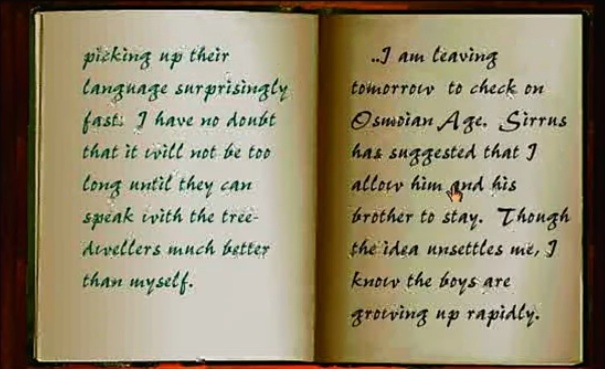Pointer: (444, 182, 466, 206)
